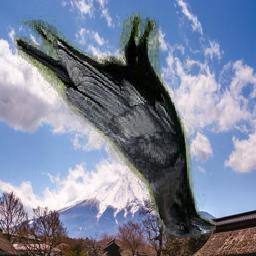Crow: (14, 12, 216, 238)
